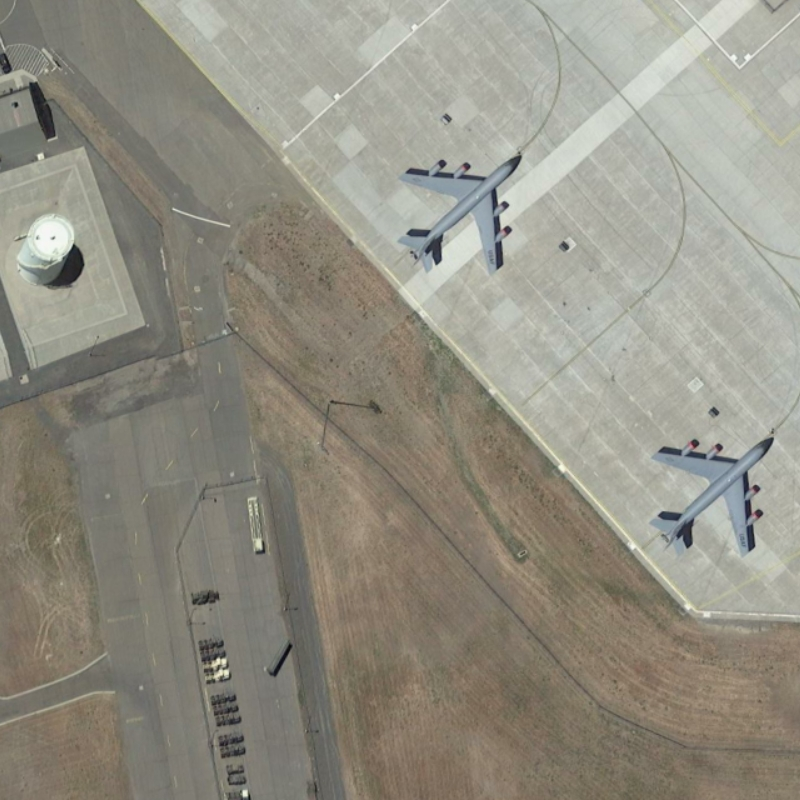A14: (644, 417, 777, 563), (397, 135, 528, 278)
